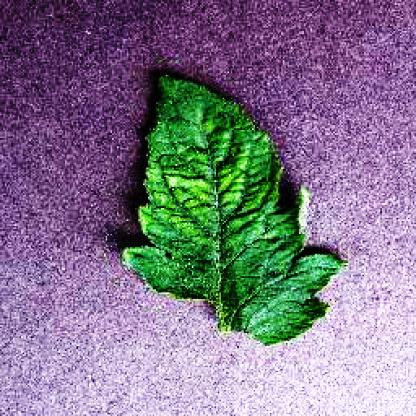Virus: (111, 65, 350, 353)
